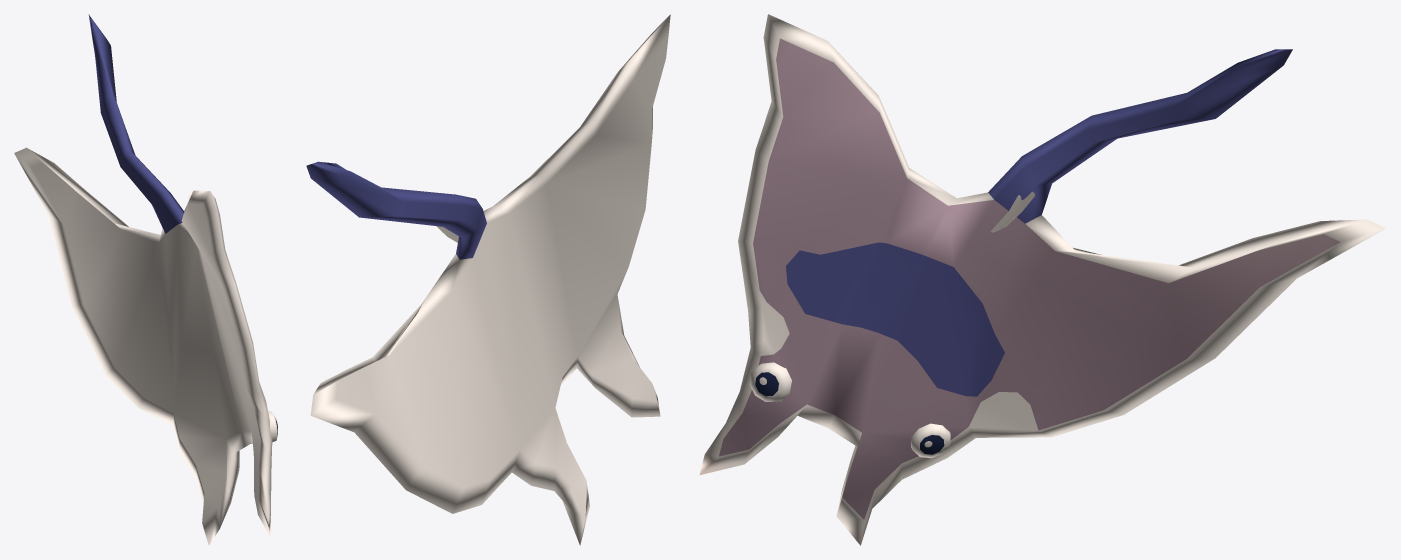
The picture shows the model from 3 angles, left to right: view 1: azimuth 30°, elevation 25°; view 2: azimuth 150°, elevation 25°; view 3: azimuth 270°, elevation 25°; orthographic projection. The views are drawn at different scales.
Visible parts, largest first — view 1: Fish_DavilRay; view 2: Fish_DavilRay; view 3: Fish_DavilRay.
Part boxes in pixels (bbox=[...]): Fish_DavilRay: bbox=[14, 14, 277, 545]; Fish_DavilRay: bbox=[306, 14, 670, 545]; Fish_DavilRay: bbox=[699, 14, 1385, 545].
Size of the model in its own units: 17.34 by 75.09 by 89.01.
